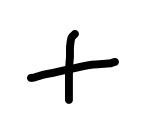plus: (28, 27, 118, 105)
